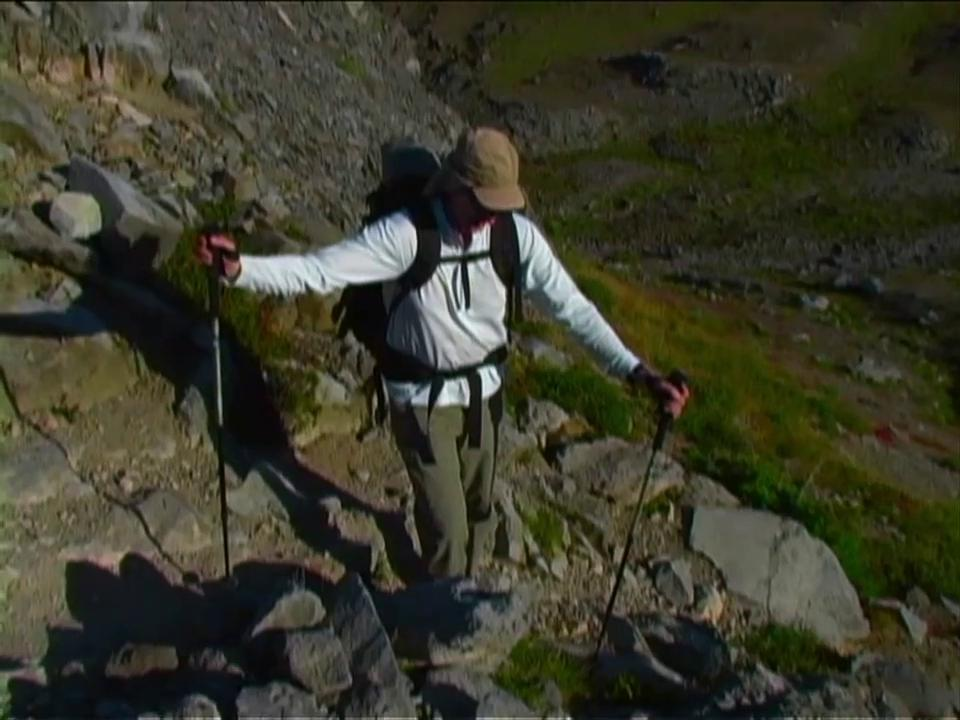victim: (179, 118, 690, 620)
